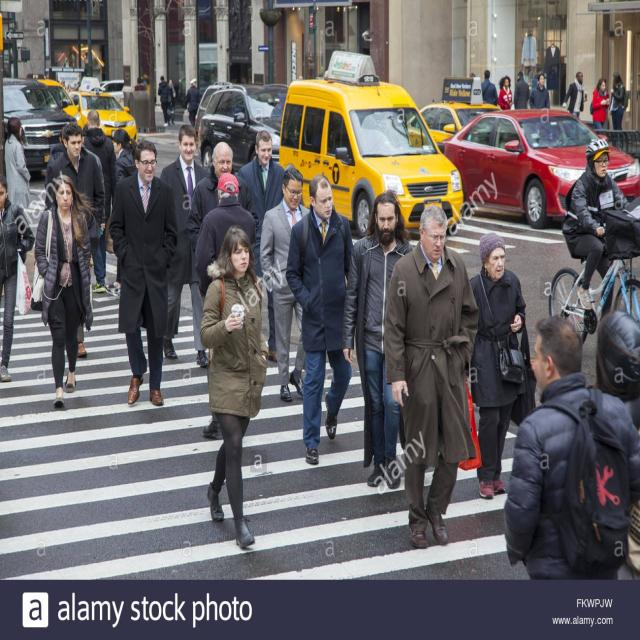body: (501, 314, 640, 582), (382, 201, 479, 551), (198, 223, 271, 551), (340, 187, 418, 490), (286, 173, 354, 466), (108, 138, 181, 408), (194, 170, 256, 440), (468, 232, 528, 502), (34, 172, 94, 410), (46, 122, 106, 358), (591, 308, 640, 580), (159, 123, 211, 370), (562, 137, 632, 313), (258, 166, 310, 402), (236, 128, 287, 364), (185, 140, 255, 256), (0, 173, 34, 381), (80, 108, 117, 290), (58, 125, 106, 262), (112, 128, 140, 290), (2, 115, 32, 213), (609, 71, 629, 149), (562, 70, 588, 120), (45, 127, 66, 187), (589, 77, 610, 135), (184, 78, 203, 129), (530, 73, 550, 109), (157, 75, 170, 127), (513, 71, 530, 109), (481, 70, 498, 106), (165, 77, 177, 127), (498, 75, 514, 111), (55, 77, 82, 93), (362, 22, 372, 58), (133, 74, 149, 92), (82, 50, 90, 74), (297, 74, 304, 80)
